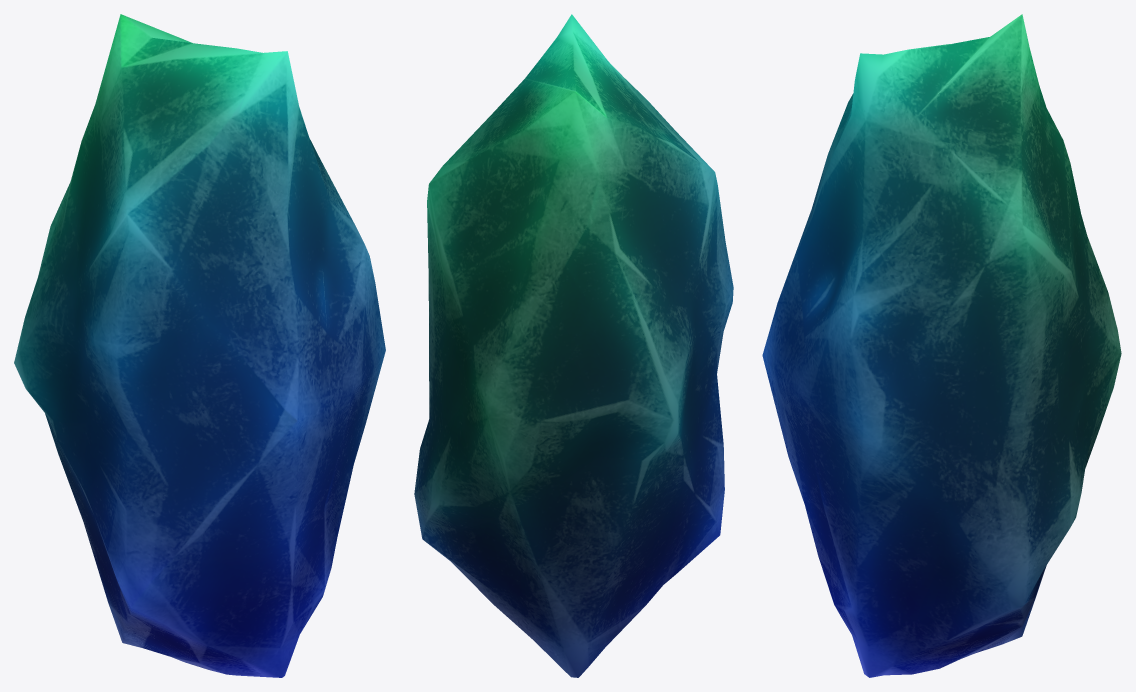
File: crystal.glb
3 views of the same model, side by side, from view 1: azimuth 30°, elevation 25°; view 2: azimuth 150°, elevation 25°; view 3: azimuth 270°, elevation 25° (orthographic). The views are drawn at different scales.
Parts seen in each view (by area): view 1: pPlatonic1; view 2: pPlatonic1; view 3: pPlatonic1.
Boxes of the visible parts, box(x1,y1,x2,y2) form: pPlatonic1: box(14, 14, 385, 677); pPlatonic1: box(414, 14, 733, 677); pPlatonic1: box(762, 14, 1121, 677).
Bounding box in the file's own units: 0.019 × 0.0399 × 0.0205.
1 material, 1 textured.
